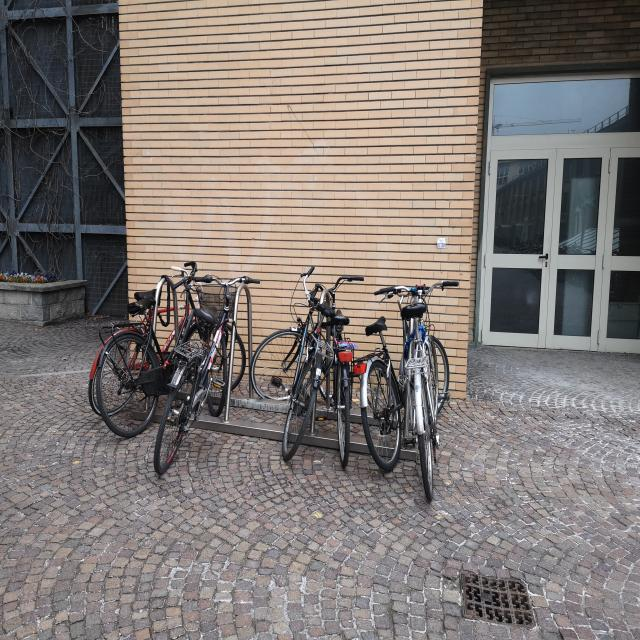Bicycle: (108, 282, 219, 454), (163, 261, 253, 472), (372, 264, 446, 472), (393, 270, 457, 503), (267, 247, 332, 460), (98, 261, 182, 387), (327, 260, 361, 458)
